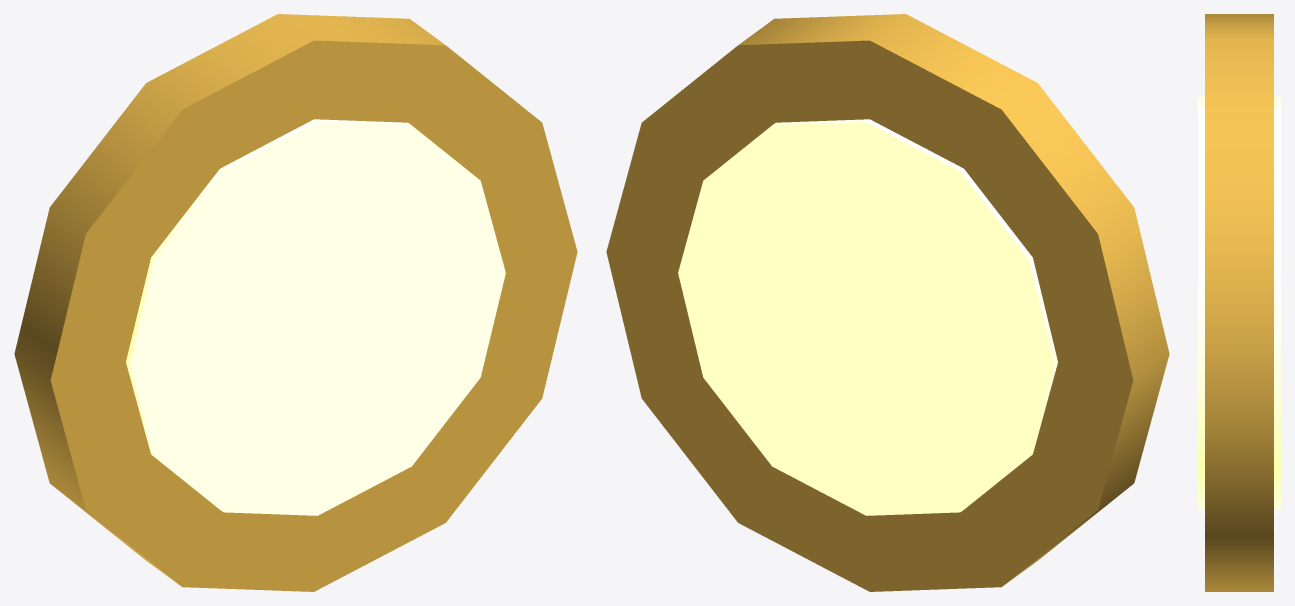
The picture shows the model from 3 angles, left to right: view 1: azimuth 30°, elevation 25°; view 2: azimuth 150°, elevation 25°; view 3: azimuth 270°, elevation 25°; orthographic projection. The views are drawn at different scales.
Parts seen in each view (by area): view 1: arcade_coin.lod1; view 2: arcade_coin.lod1; view 3: arcade_coin.lod1.
Boxes of the visible parts, x1,y1,x2,y2 form: arcade_coin.lod1: [14, 14, 577, 591]; arcade_coin.lod1: [606, 14, 1169, 591]; arcade_coin.lod1: [1198, 14, 1280, 591].
Size of the model in its own units: 0.84 by 0.84 by 0.12.
